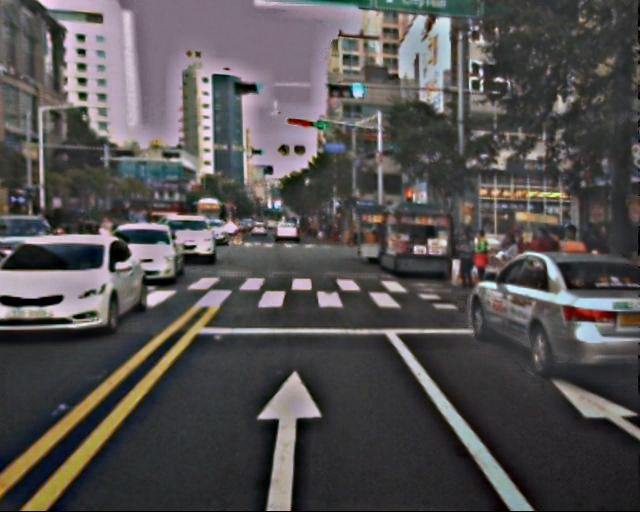person: (522, 220, 611, 256), (496, 233, 525, 303), (451, 234, 477, 296), (471, 230, 496, 289)
